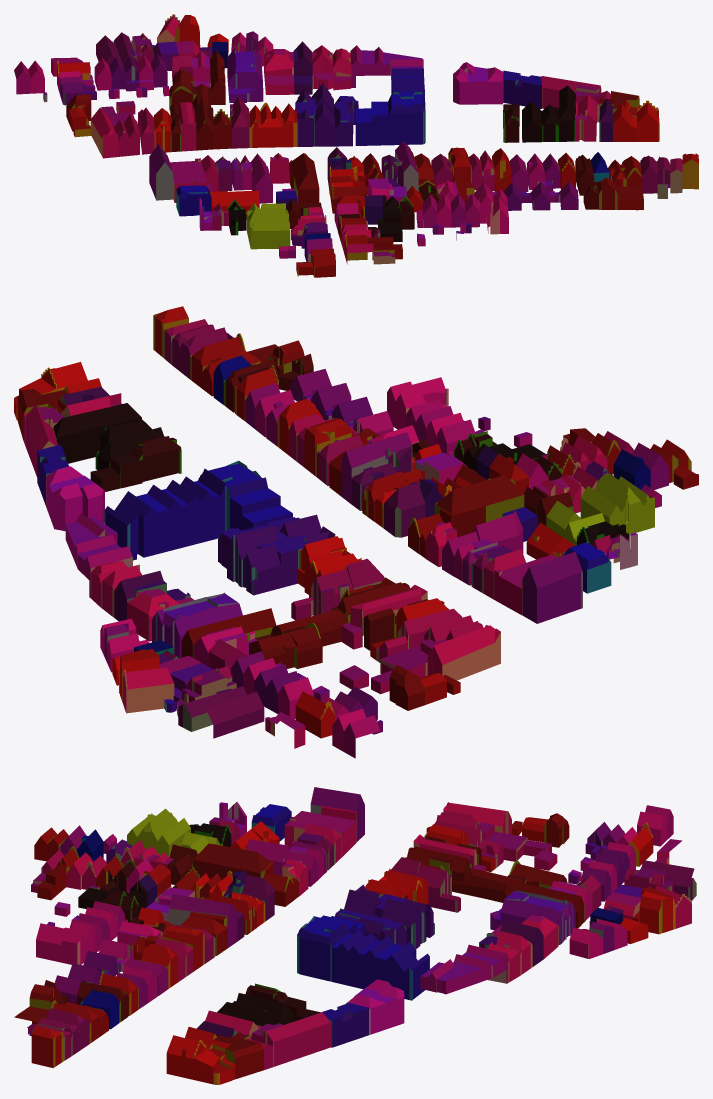
The model's file is buildings_11_10.glb.
The picture shows the model from 3 angles, top to bottom: view 1: azimuth 30°, elevation 25°; view 2: azimuth 150°, elevation 25°; view 3: azimuth 270°, elevation 25°; orthographic projection. The views are drawn at different scales.
Parts seen in each view (by area): view 1: buildings_11_10; view 2: buildings_11_10; view 3: buildings_11_10.
Part boxes in pixels (x1=…): buildings_11_10: x1=14, y1=14, x2=698, y2=277; buildings_11_10: x1=14, y1=306, x2=698, y2=758; buildings_11_10: x1=14, y1=787, x2=696, y2=1084.
Bounding box in the file's own units: 193 × 16.22 × 217.
